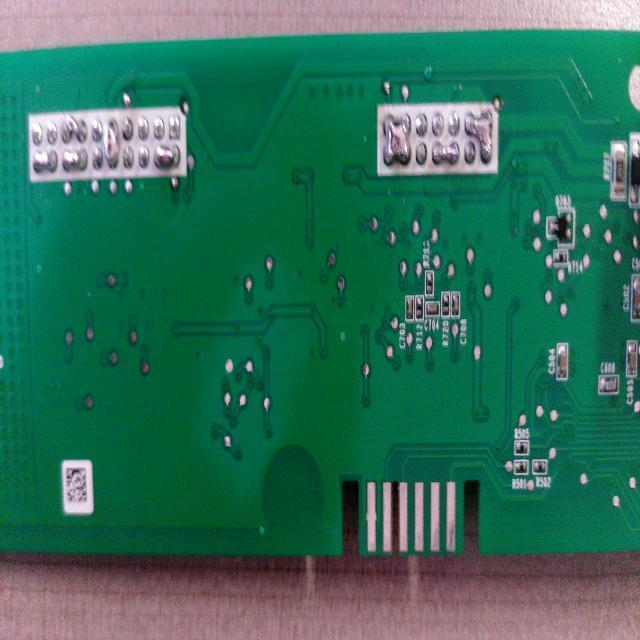Soldering shorted: (381, 109, 414, 170), (464, 110, 492, 168), (102, 114, 122, 172), (60, 108, 89, 146), (152, 142, 186, 171), (59, 147, 90, 177), (430, 139, 460, 168), (32, 147, 58, 175)
